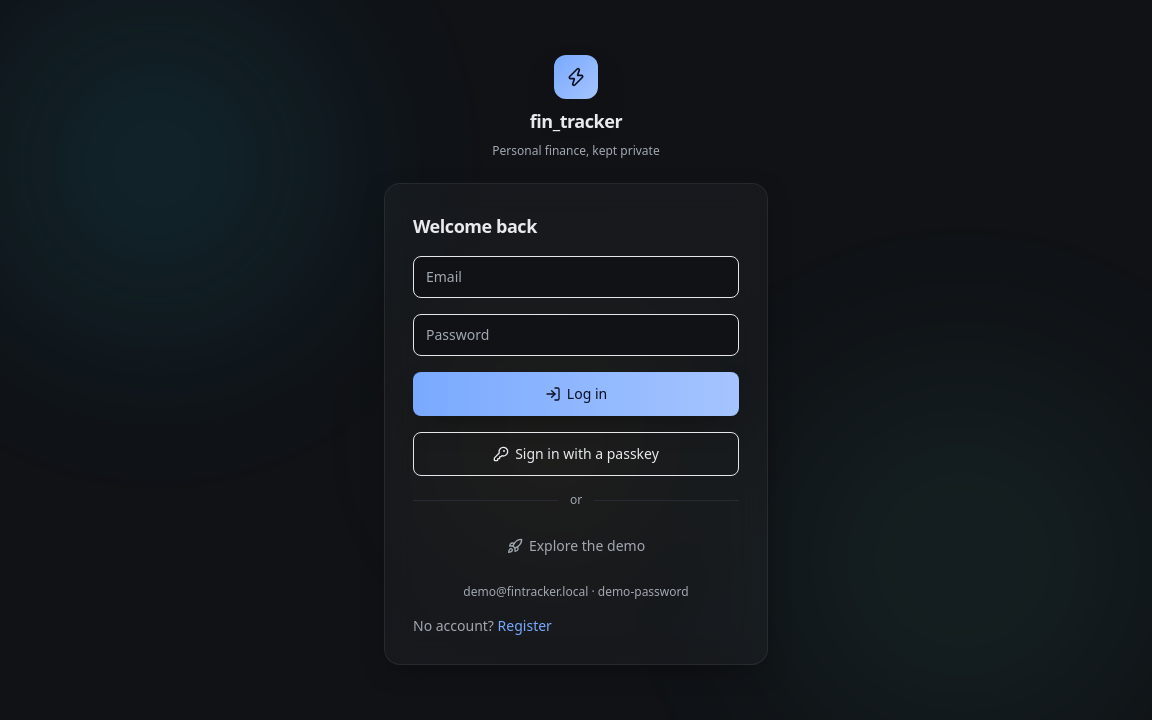
it: R3 — restore-null → the read-only demo door › clears the stale key on the failed probe and lands on a masked calendar
The width and height of the screenshot is (1152, 720).
Step 1. Click the button "Explore the demo" → (576, 546), box [413, 524, 739, 568]
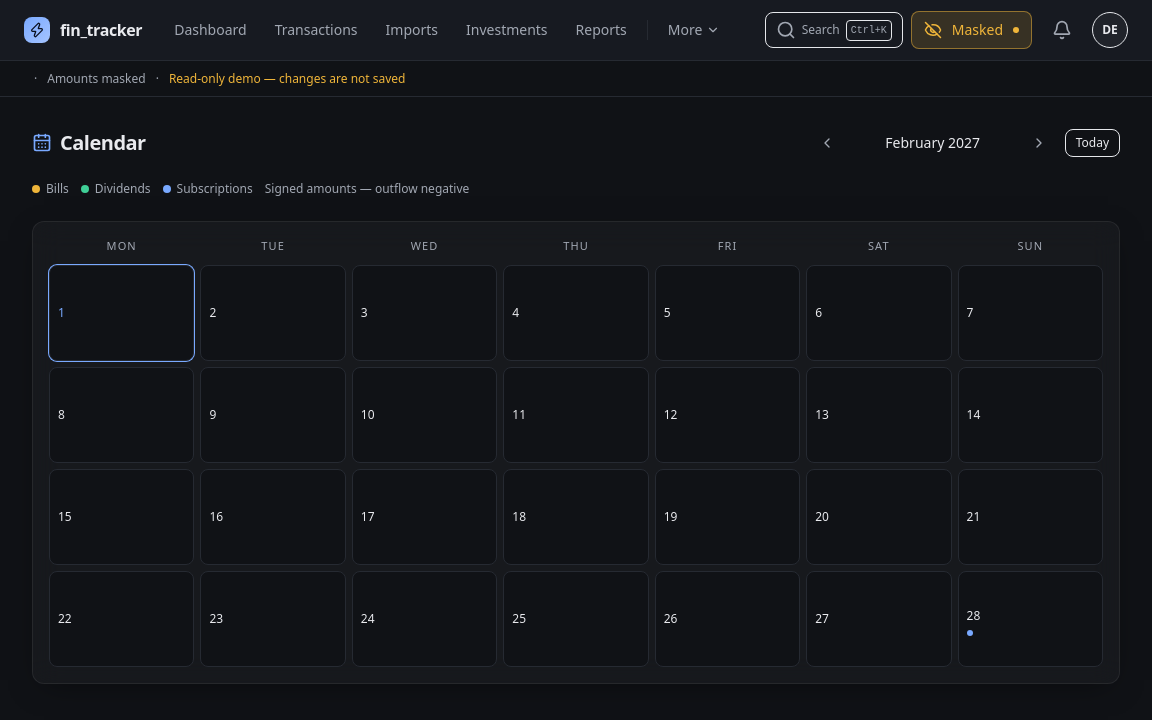
Step 2. Click the button "28" → (1030, 618), box [958, 570, 1103, 666]
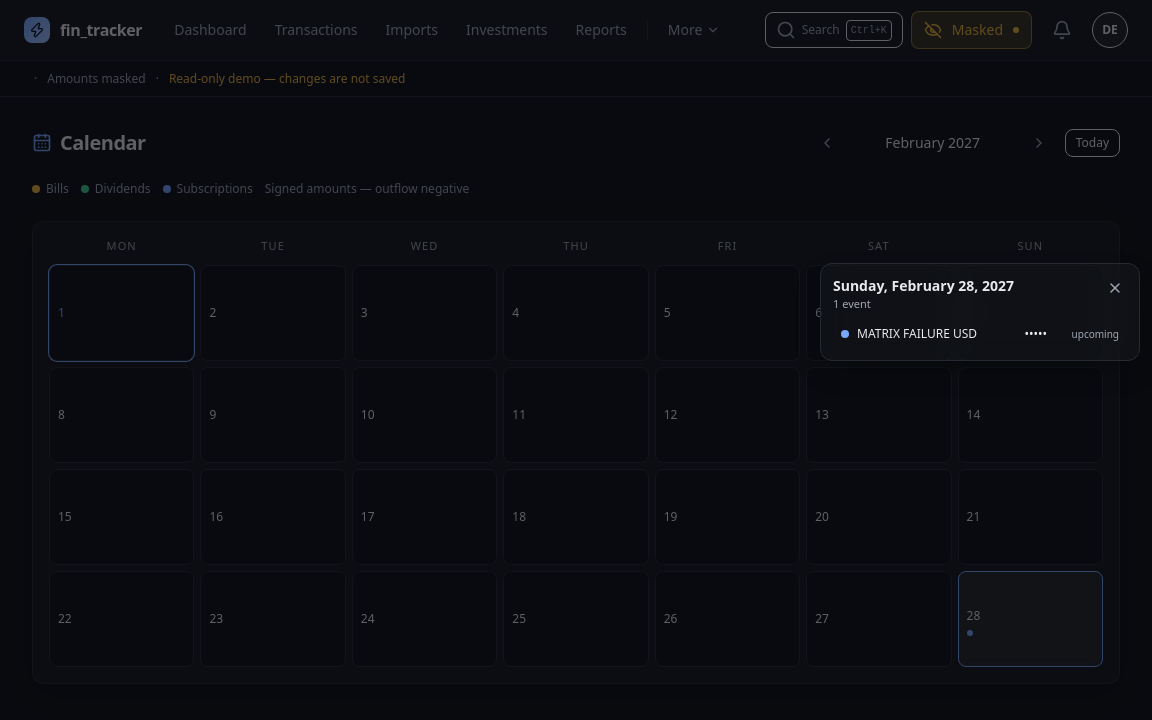
expect the dialog with test id "calendar-popover" is shown: met, box [820, 262, 1140, 361]
